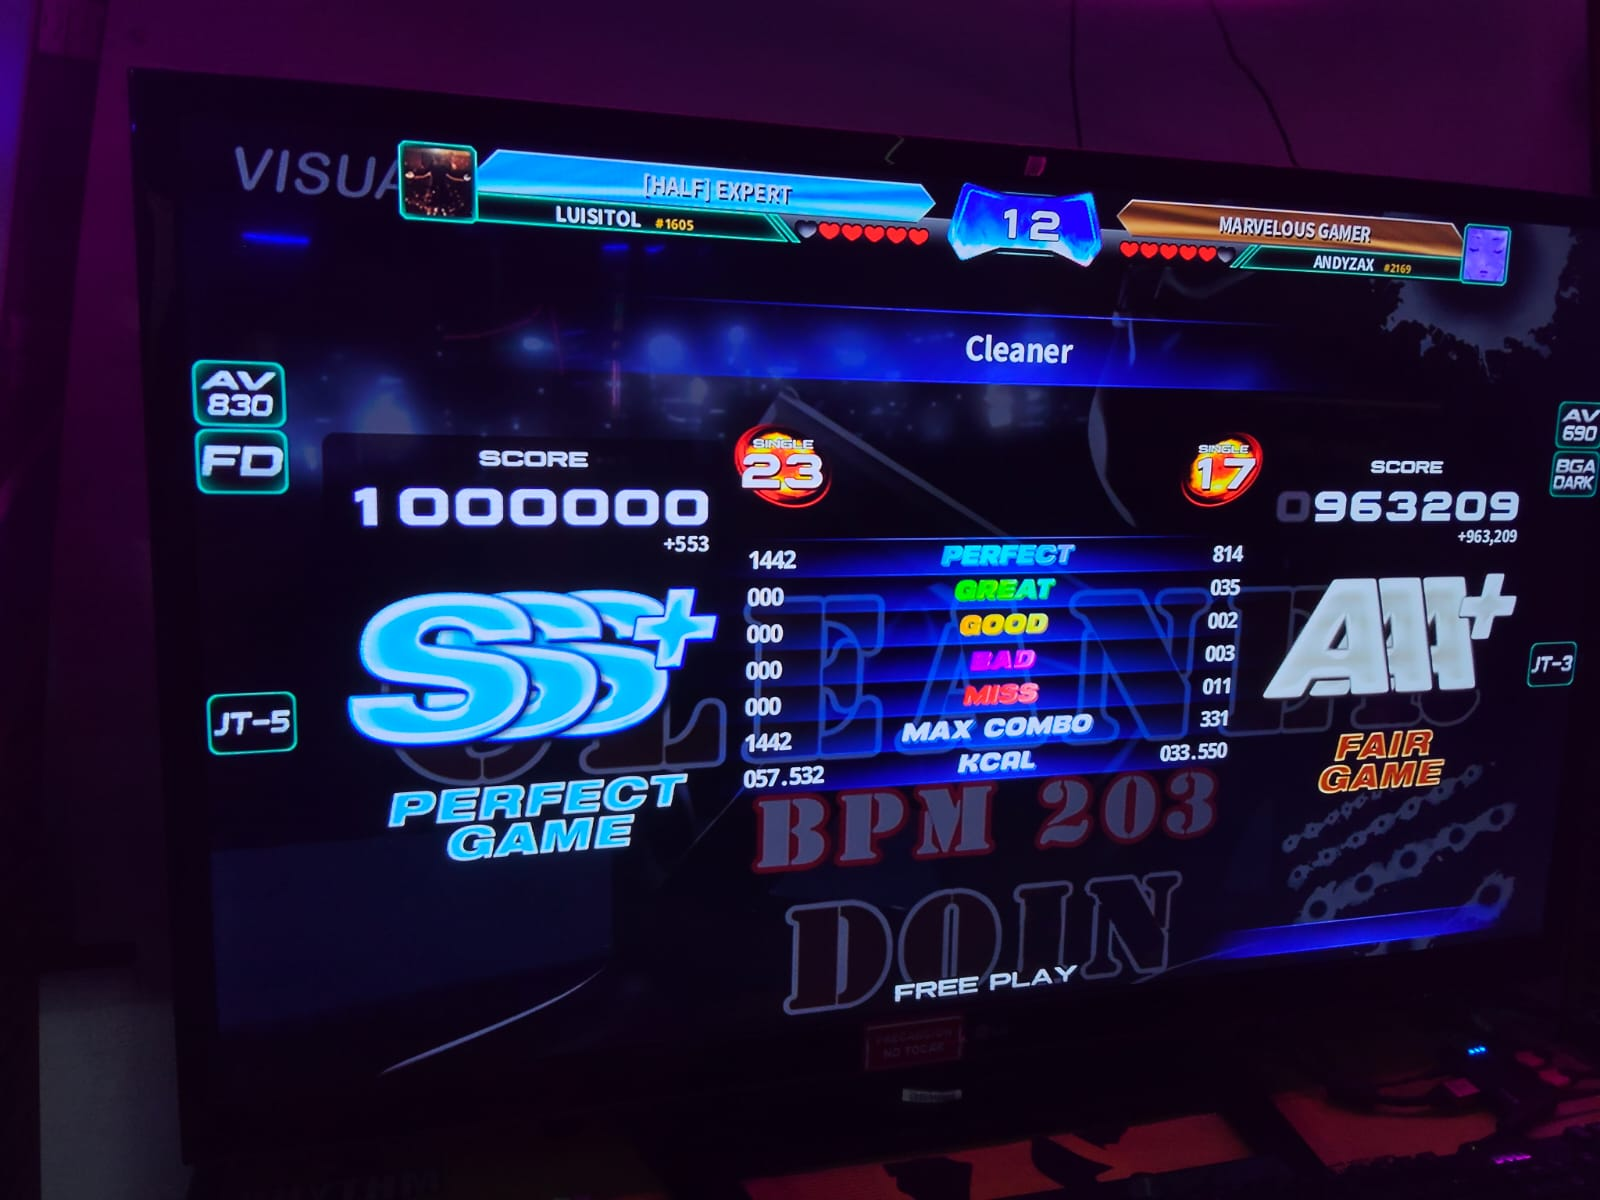difficulty: (723, 427, 833, 514)
fullscore: (159, 86, 1487, 976)
rank: (331, 565, 699, 759)
score: (328, 439, 709, 534)
song_name: (668, 311, 1230, 406)
